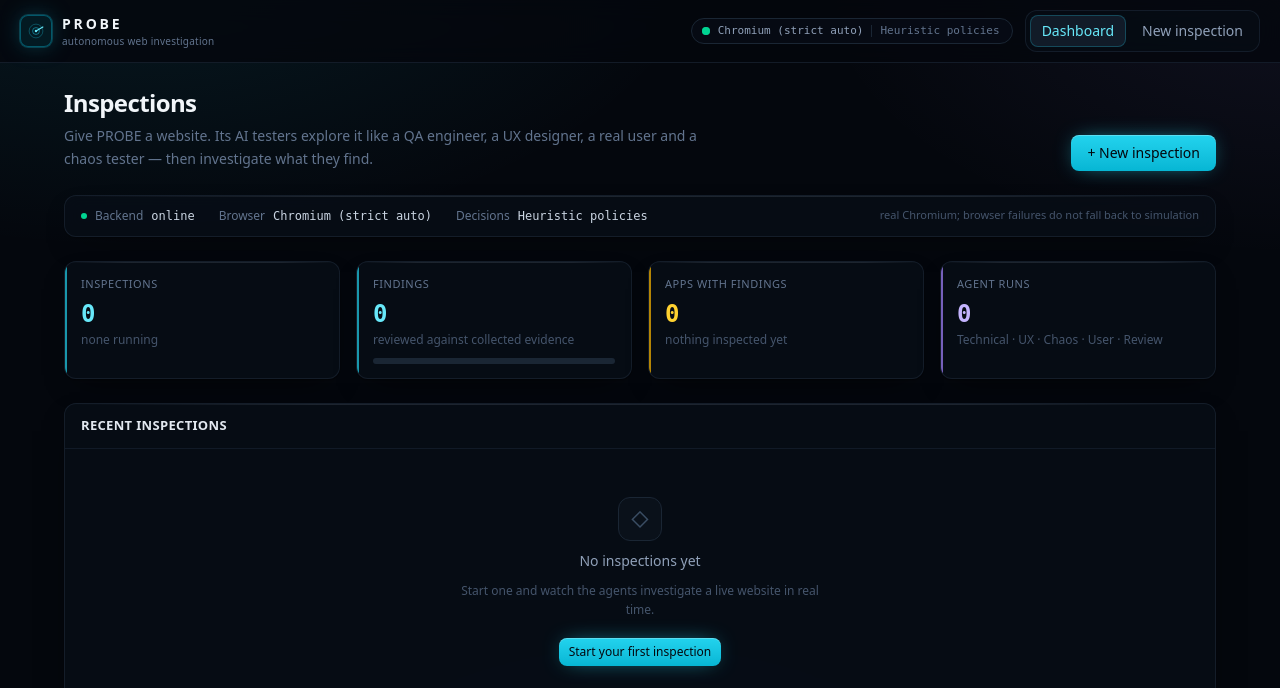
it: App shell › navigates between the dashboard and the new-inspection form
Click the link "New inspection" at (1193, 30), box 1142,21 -> 1243,40
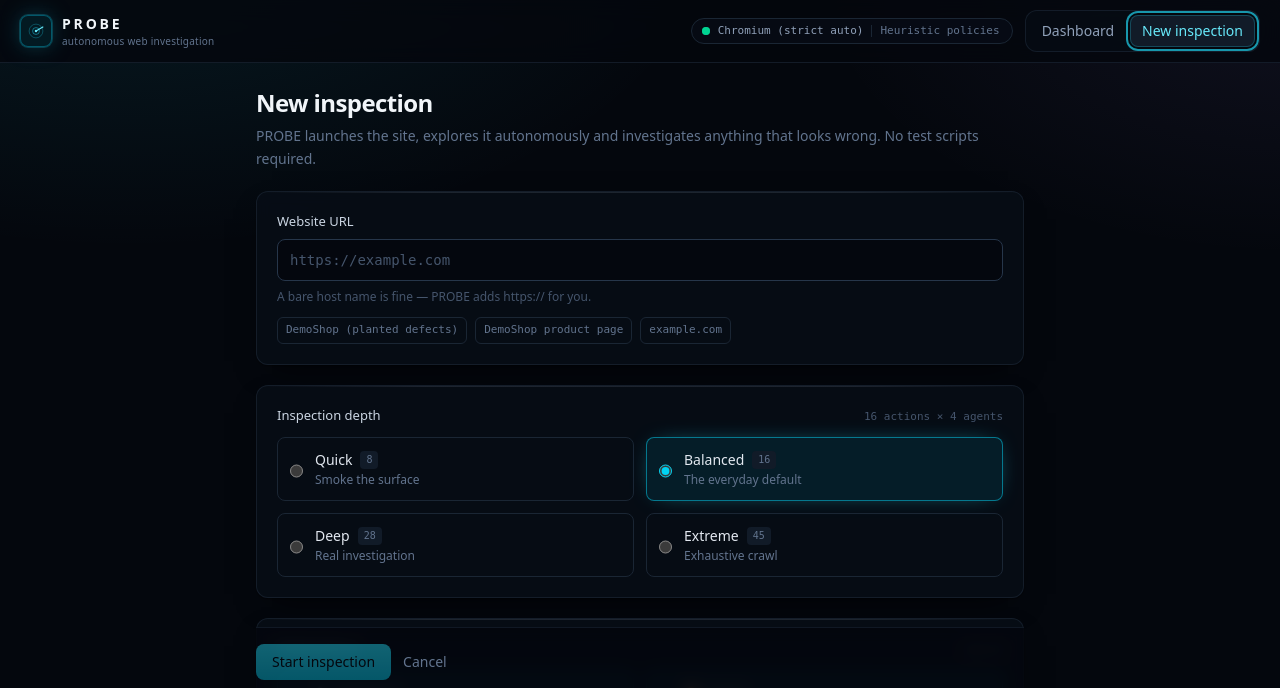
Result: the heading "New inspection" is shown at 256,86 -> 433,119
Click the link "Dashboard" at (1078, 30), box 1042,21 -> 1114,40
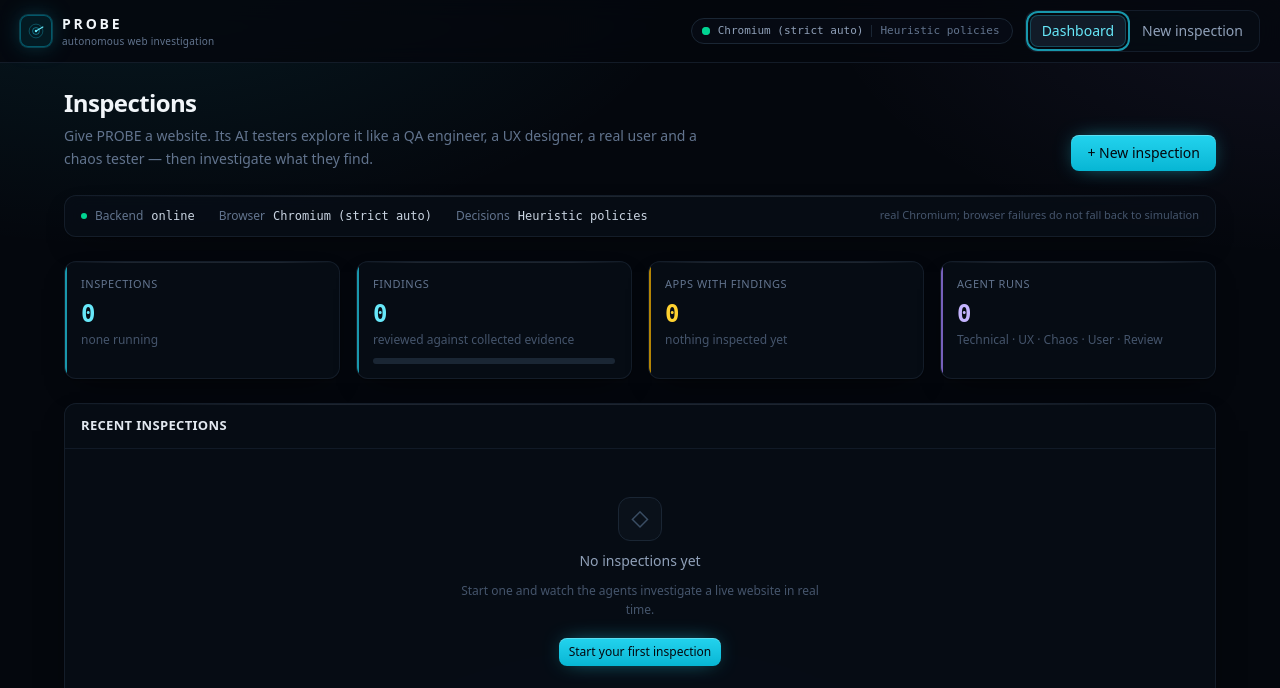
Result: the heading "Inspections" is shown at 64,86 -> 196,119
